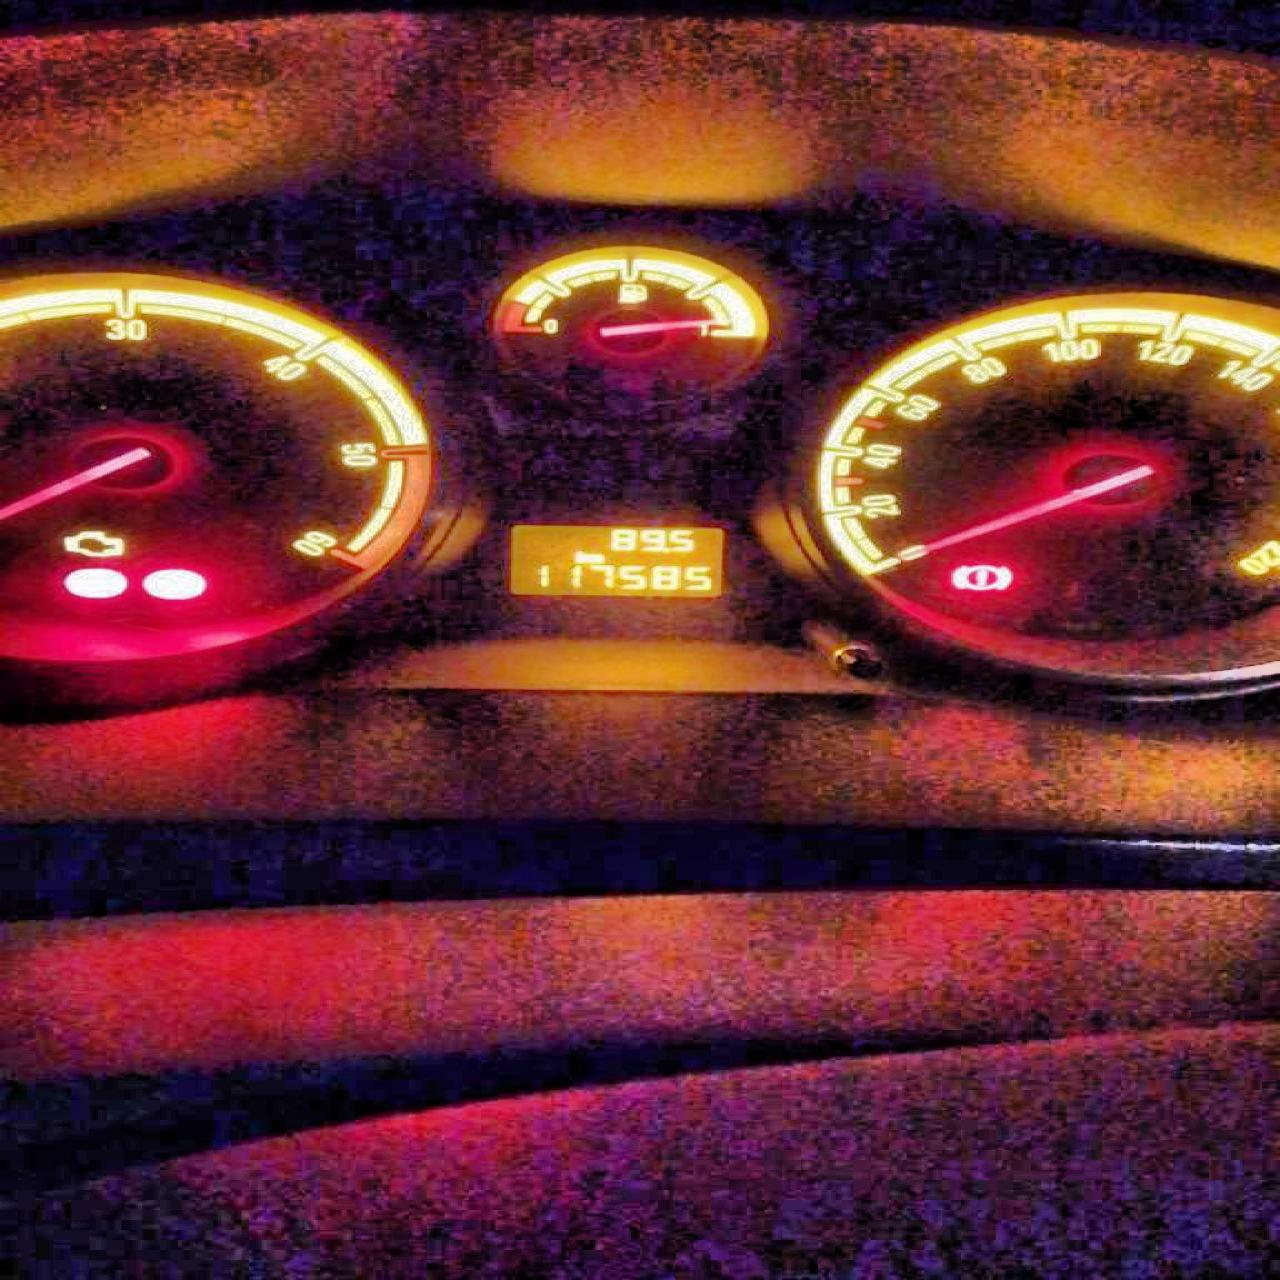-: (660, 545, 669, 554)
1: (536, 564, 549, 586), (568, 565, 580, 587)
5: (615, 564, 647, 588), (682, 565, 712, 590), (667, 529, 693, 551)
7: (585, 564, 613, 586)
8: (649, 564, 680, 588), (606, 527, 635, 551)
9: (638, 527, 665, 551)
X: (585, 552, 605, 563), (571, 549, 585, 563)
odometer: (506, 524, 722, 598)
